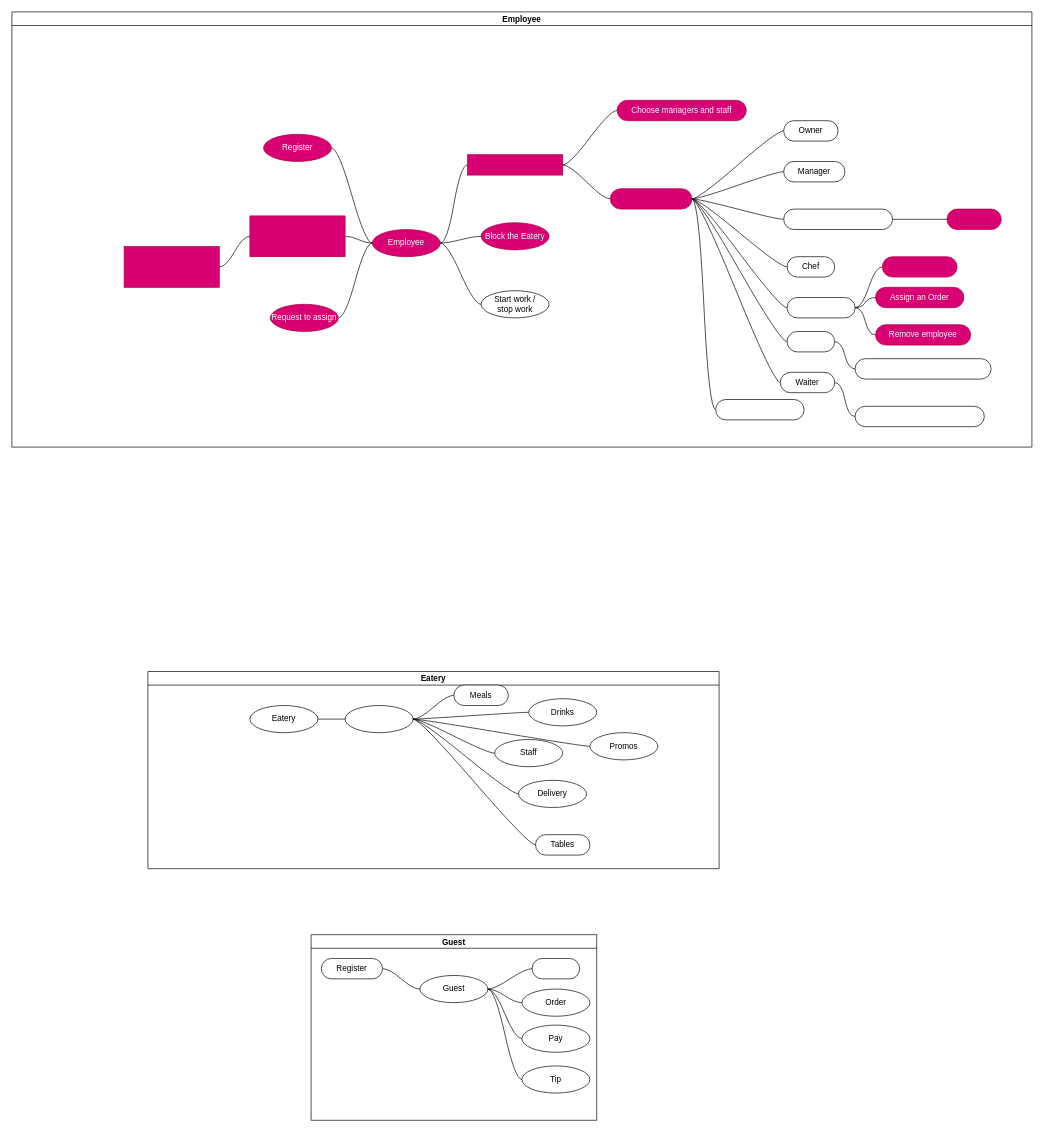
Image size: 1044x1132. Some labels were removed from this diagram. Each missing label, with the centre of its shape:
"Assign table" goes at (x=919, y=266).
"Assigns roles" goes at (x=651, y=198).
"Auth by Telegram and Login + password" goes at (x=297, y=236).
"Book" goes at (x=555, y=968).
"Capture order/ release order" goes at (x=922, y=368).
"Capture table /release table" goes at (x=919, y=416).
"Cook" goes at (x=810, y=341).
"creates the Eatery" goes at (x=515, y=164).
"Delivery partner" goes at (x=759, y=409).
"Editing" goes at (x=973, y=219).
"Master Data" goes at (x=378, y=719).
"Master data operator" goes at (x=838, y=219).
"restore password" goes at (x=171, y=266).
"sous-chef" goes at (x=820, y=307).
